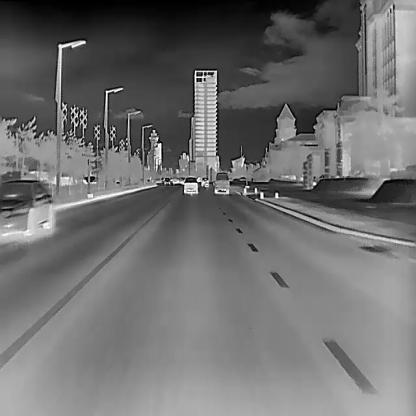car: (0, 179, 53, 239), (213, 171, 230, 194), (183, 175, 198, 194), (200, 176, 208, 186), (164, 177, 169, 185)
